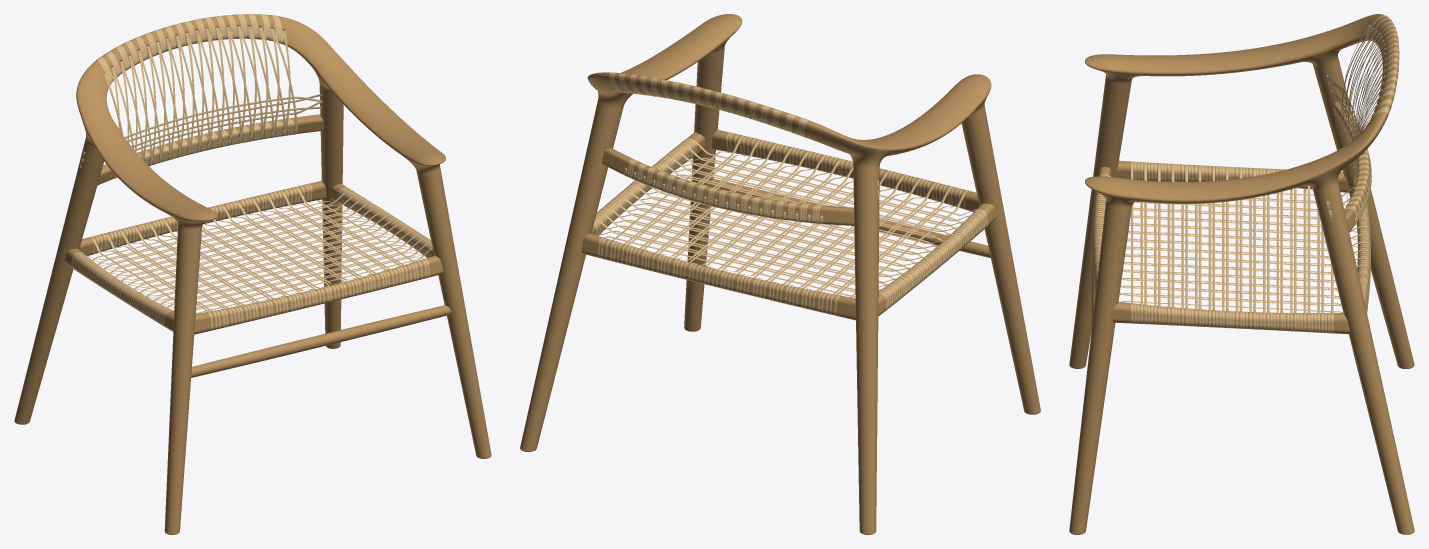
The picture shows the model from 3 angles, left to right: view 1: azimuth 30°, elevation 25°; view 2: azimuth 150°, elevation 25°; view 3: azimuth 270°, elevation 25°; orthographic projection. The views are drawn at different scales.
Visible parts, largest first — view 1: bambi_frame, bambi_weave; view 2: bambi_frame, bambi_weave; view 3: bambi_frame, bambi_weave.
Boxes of the visible parts, x1=… form: bambi_frame: x1=14, y1=14, x2=491, y2=534; bambi_weave: x1=71, y1=14, x2=432, y2=330; bambi_frame: x1=520, y1=14, x2=1040, y2=534; bambi_weave: x1=593, y1=72, x2=988, y2=315; bambi_frame: x1=1069, y1=14, x2=1414, y2=534; bambi_weave: x1=1092, y1=15, x2=1399, y2=333.
Bounding box in the file's own units: 69.09 × 74.09 × 58.27.
2 materials, 2 textured.
